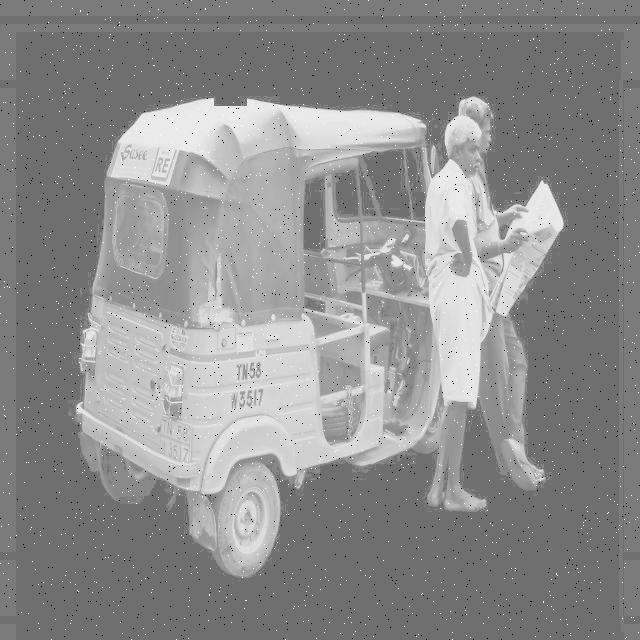Auto-Rickshaw: (91, 87, 462, 575)
